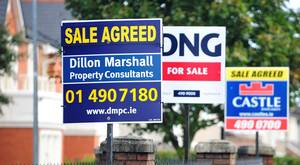property sign: (56, 16, 164, 125), (156, 20, 228, 106), (224, 65, 291, 135)
